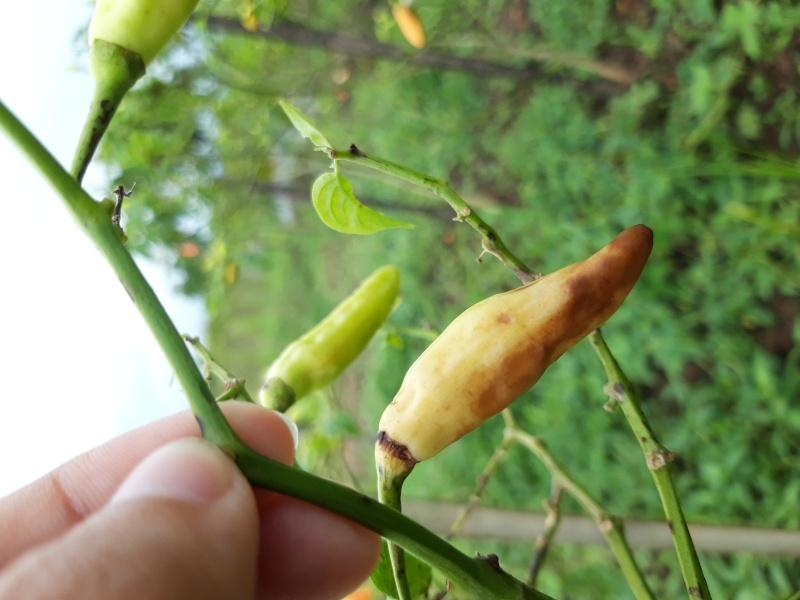cabai_normal: (270, 267, 397, 396)
lalat_buah: (378, 223, 653, 463)
